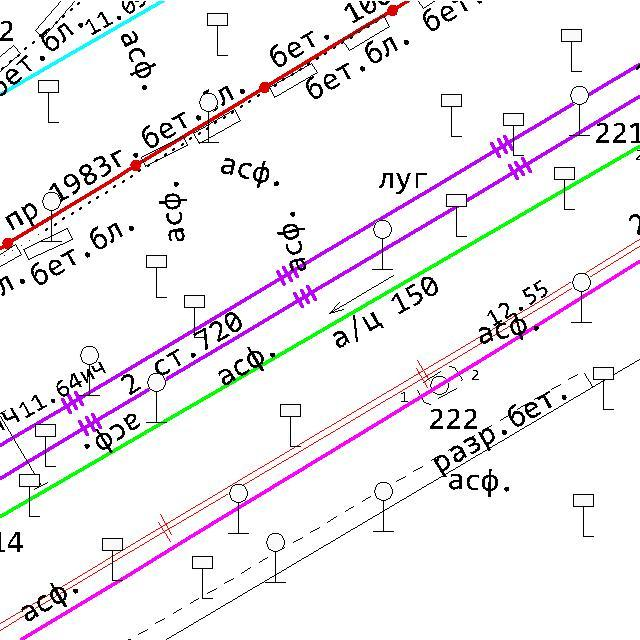asphalt: (83, 412, 142, 454), (217, 345, 277, 386), (20, 581, 80, 622), (118, 28, 156, 92), (218, 154, 281, 190), (476, 313, 540, 347), (276, 210, 308, 274), (157, 179, 188, 244), (448, 466, 510, 498)
sing: (39, 190, 65, 245), (370, 219, 395, 272), (442, 192, 470, 239), (197, 92, 221, 146), (264, 531, 288, 585), (204, 12, 232, 58), (570, 271, 593, 326), (372, 480, 395, 535), (36, 78, 62, 125), (144, 253, 170, 300), (572, 492, 598, 539), (145, 372, 168, 425), (439, 92, 464, 140), (227, 484, 250, 536), (79, 344, 101, 398), (182, 293, 207, 340), (552, 165, 577, 212), (17, 472, 42, 519), (591, 365, 616, 412), (190, 554, 215, 601), (569, 84, 591, 137), (560, 26, 584, 74), (100, 536, 124, 584), (278, 402, 303, 448), (502, 111, 526, 158), (33, 423, 58, 468)
